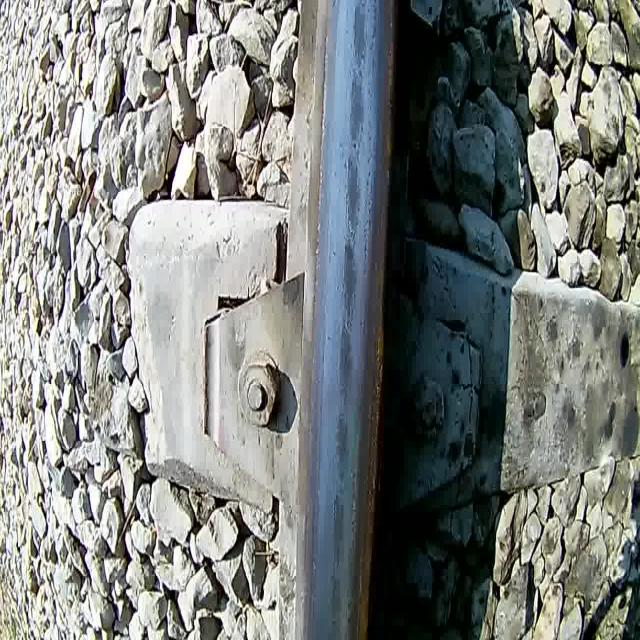Cracks: (348, 462, 360, 556), (342, 200, 361, 259), (334, 493, 346, 568), (342, 288, 357, 341), (352, 139, 362, 200), (345, 140, 354, 187), (352, 603, 363, 640)
Squats: (332, 322, 358, 408), (339, 238, 360, 335), (347, 67, 368, 152), (343, 152, 363, 240), (332, 408, 352, 488), (326, 566, 346, 640), (349, 1, 369, 71), (329, 491, 346, 572)
